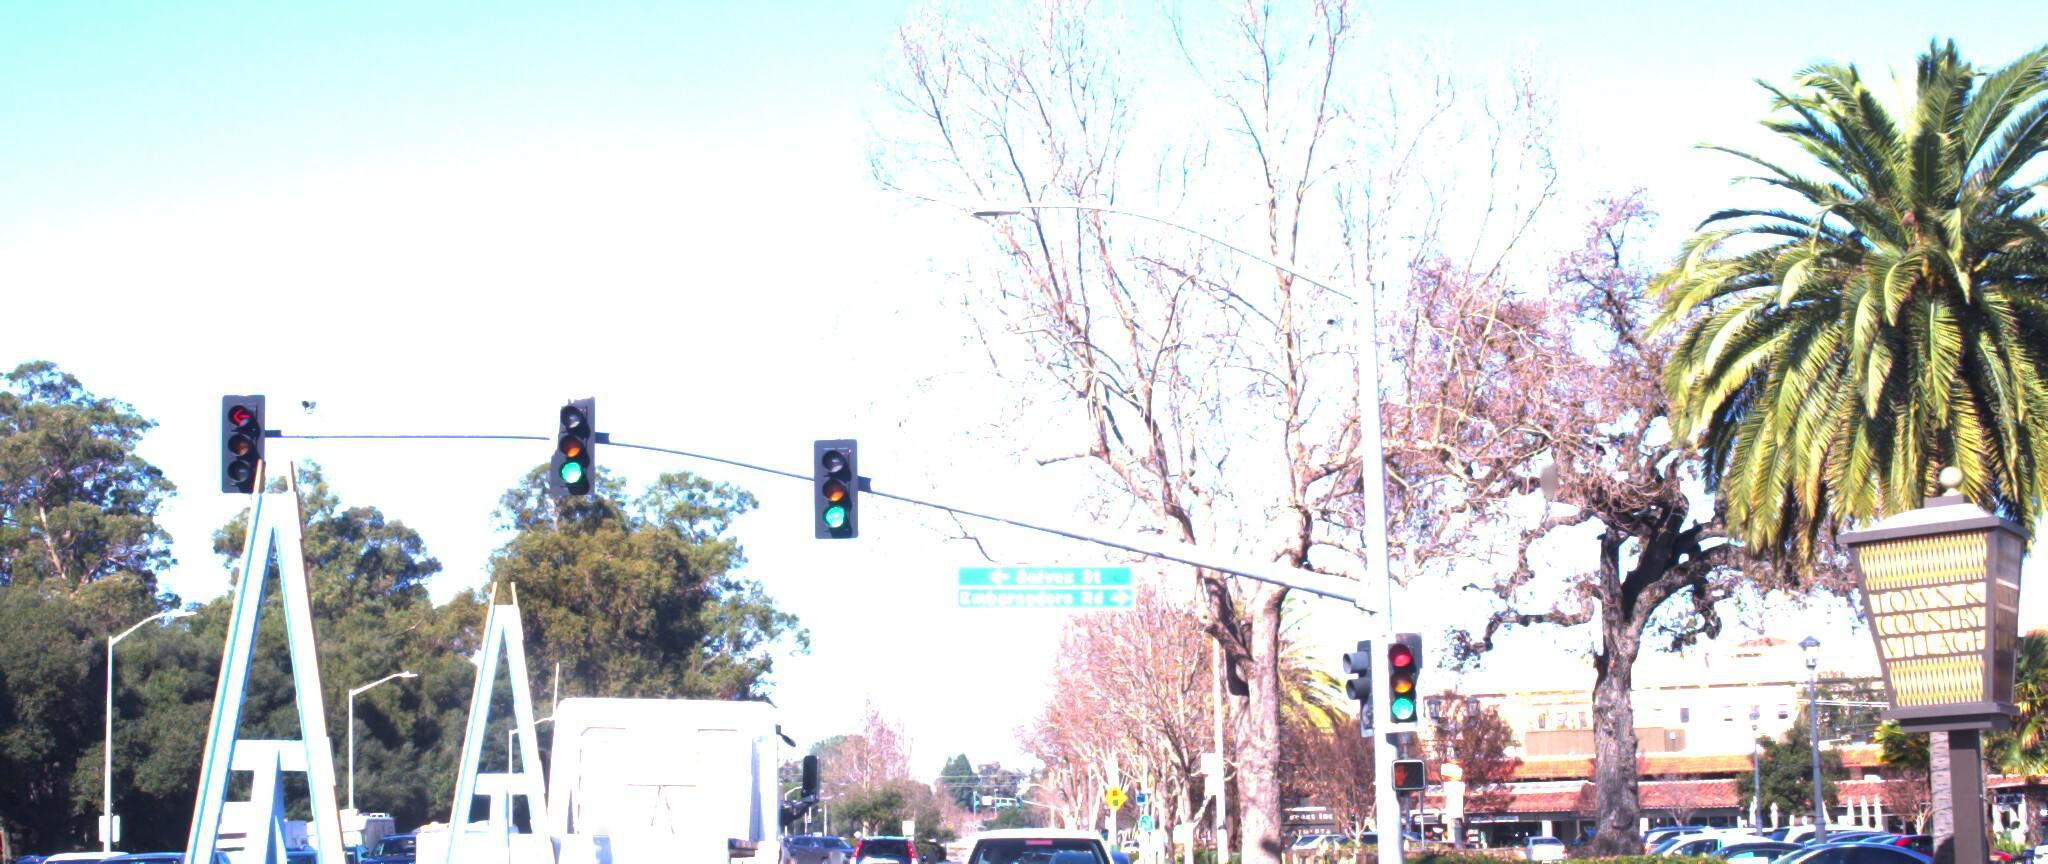car: (1681, 814, 1985, 864), (927, 813, 1134, 864), (9, 824, 182, 864), (51, 829, 244, 864), (842, 807, 929, 864), (0, 824, 61, 864)
truck: (0, 378, 839, 864)
